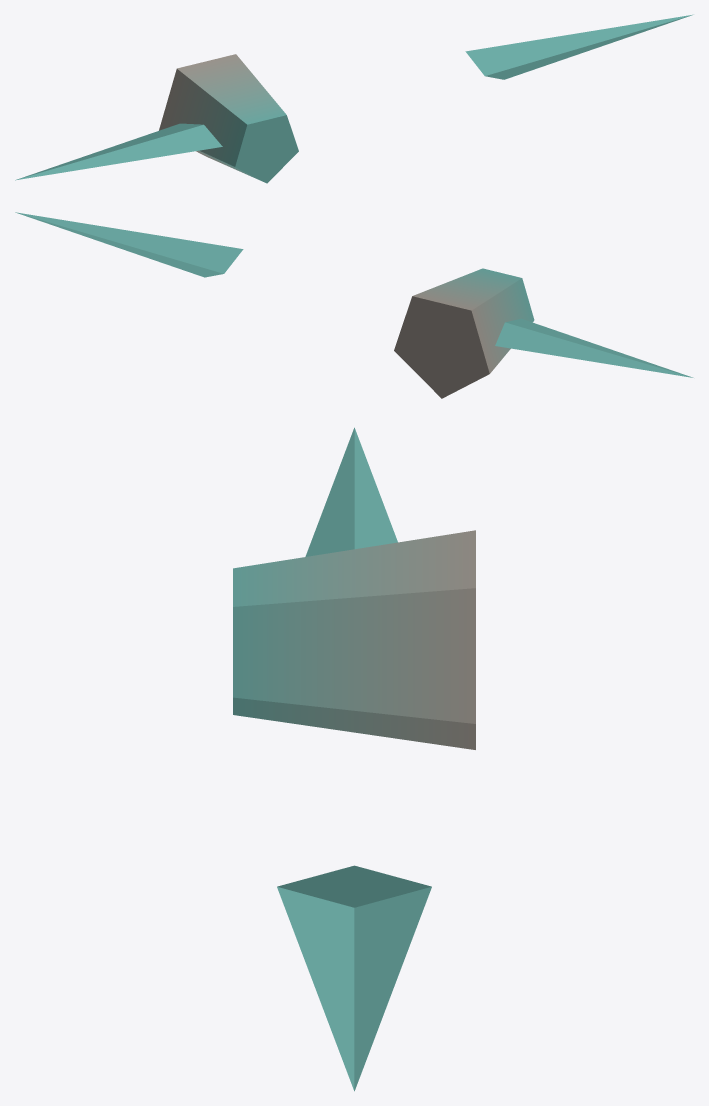
File: tail_fin.glb
The picture shows the model from 3 angles, top to bottom: view 1: azimuth 30°, elevation 25°; view 2: azimuth 150°, elevation 25°; view 3: azimuth 270°, elevation 25°; orthographic projection. The views are drawn at different scales.
Size of the model in its own units: 1 by 0.134 by 0.1543.
